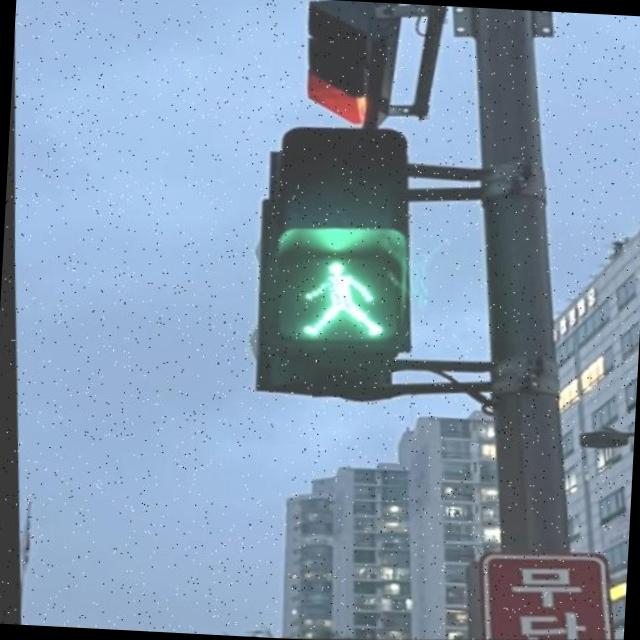green_light: (269, 242, 403, 360)
